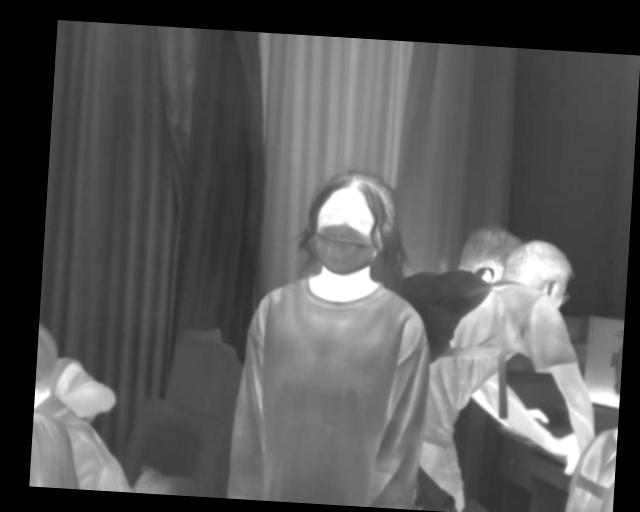face: (304, 168, 400, 278)
